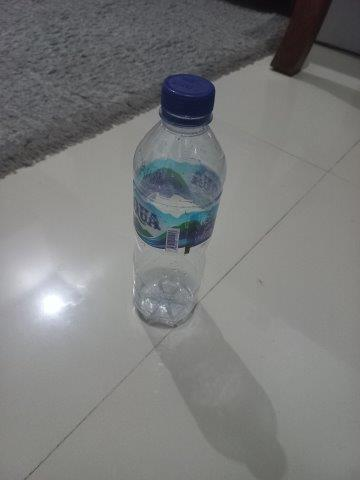botolplastik: (131, 75, 229, 330)
